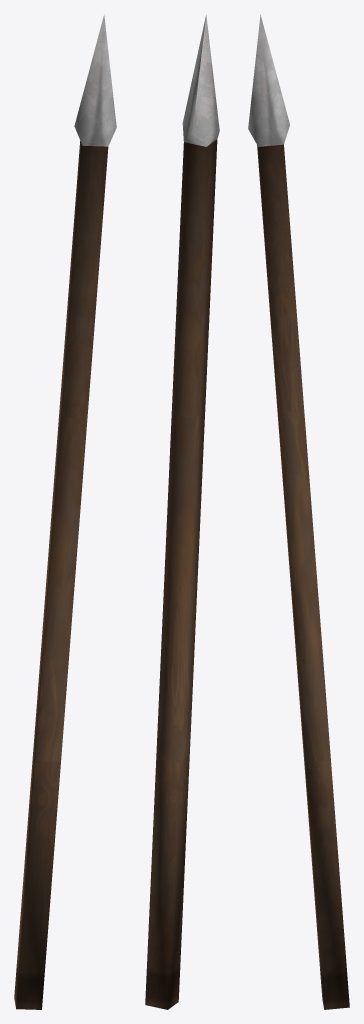
File: weapon-base.glb
The picture shows the model from 3 angles, left to right: view 1: azimuth 90°, elevation 25°; view 2: azimuth 150°, elevation 25°; view 3: azimuth 270°, elevation 25°; orthographic projection. The views are drawn at different scales.
Bounding box in the file's own units: 0.069 × 1.77 × 0.1653.
1 material, 1 textured.
